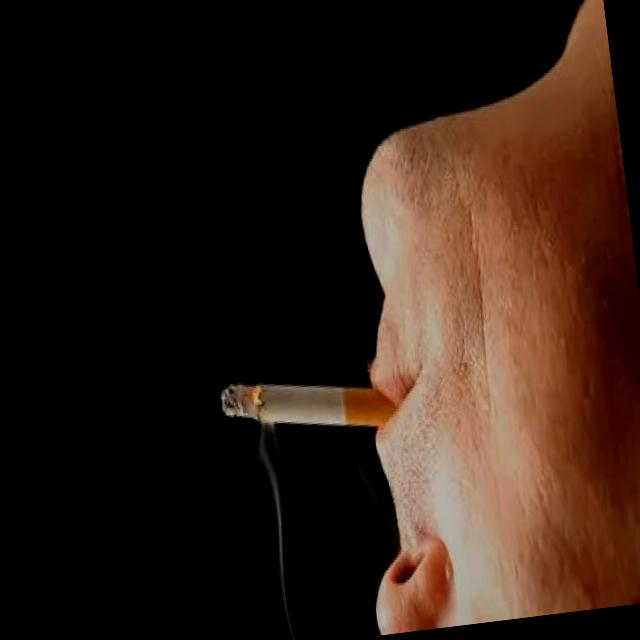cigarette: (212, 352, 400, 457)
